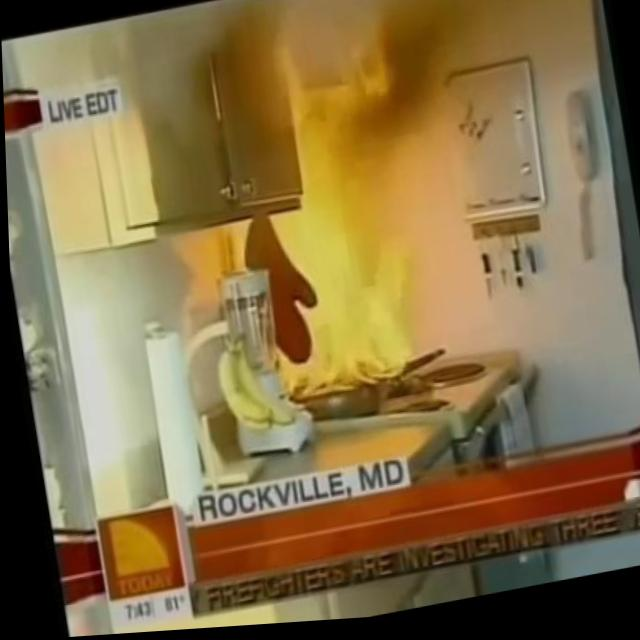fire: (239, 99, 441, 409)
